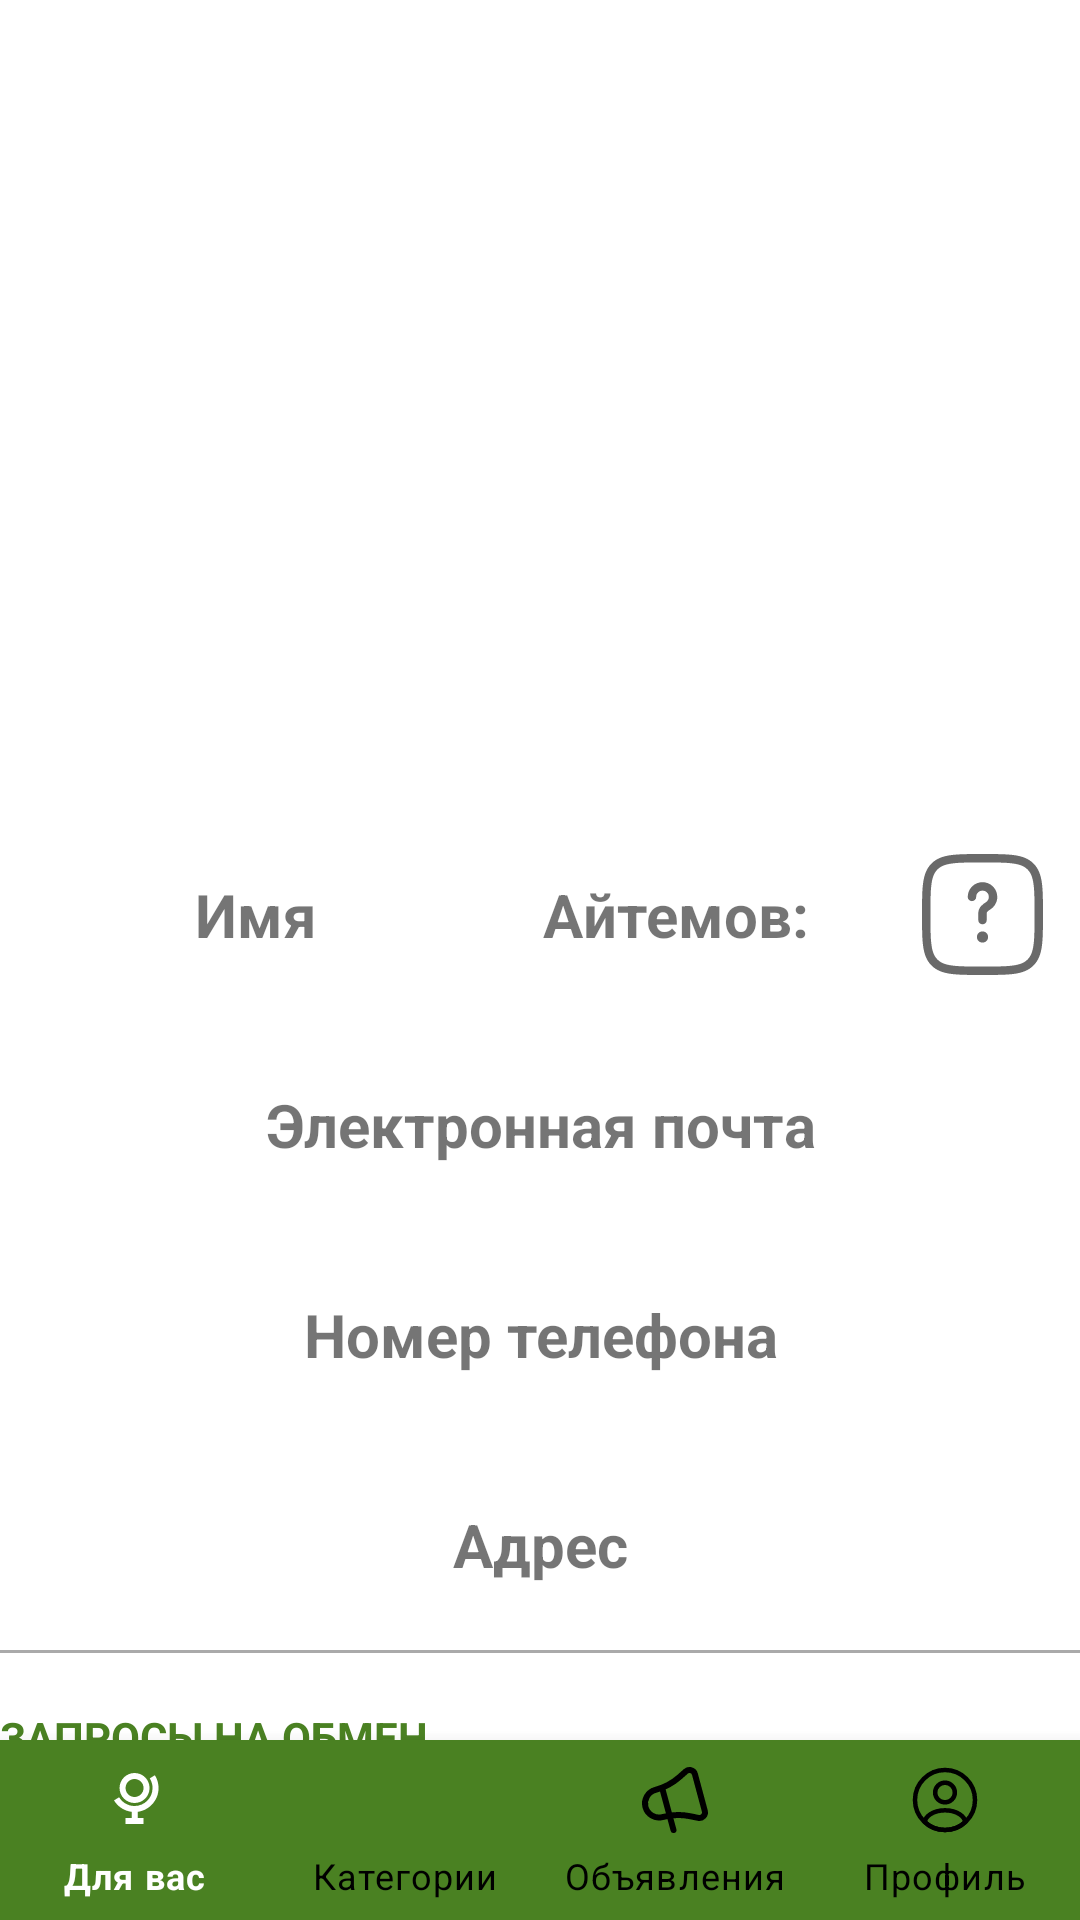

Icons on this 1080px x 1920px Android screen, each with its box as (x1, y1, x2, y2):
faq: (922, 854, 1043, 975)
